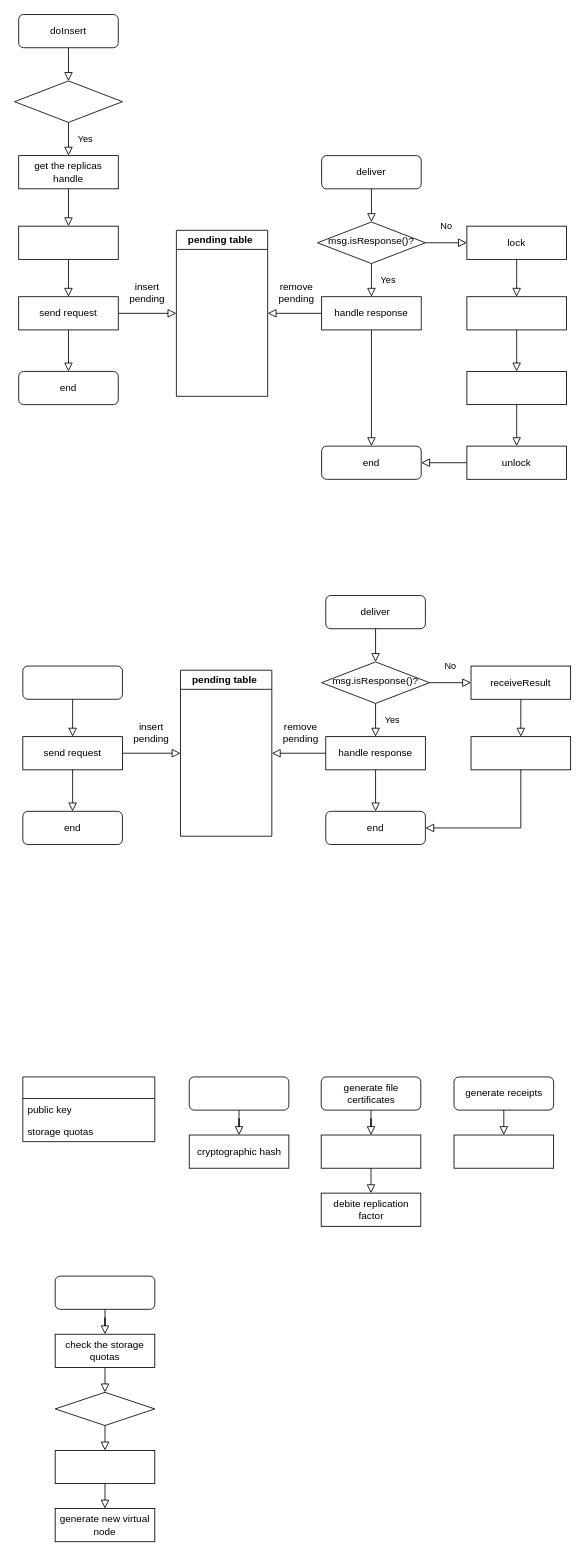
Image size: 585x1556. Some labels were removed from this diagram. The shapes that lost their labels are listed below. From the top down, each one's box as (x1, y1, x2, y2) in pixels, then its label:
(14, 80, 122, 122): < replicas.size()?
(18, 225, 118, 259): build message
(466, 296, 566, 330): check insert
(466, 371, 566, 405): storage
(22, 665, 122, 699): lookup
(470, 736, 571, 770): cache to prev handle
(22, 1076, 155, 1142): SmartCard
(188, 1076, 289, 1110): generate node id
(320, 1134, 421, 1168): generate fileId and hash file content
(453, 1134, 554, 1168): signed by smartcard and return to client
(54, 1275, 155, 1309): start
(54, 1391, 155, 1426): > threshold?
(54, 1450, 155, 1484): cryptographic hash public key
